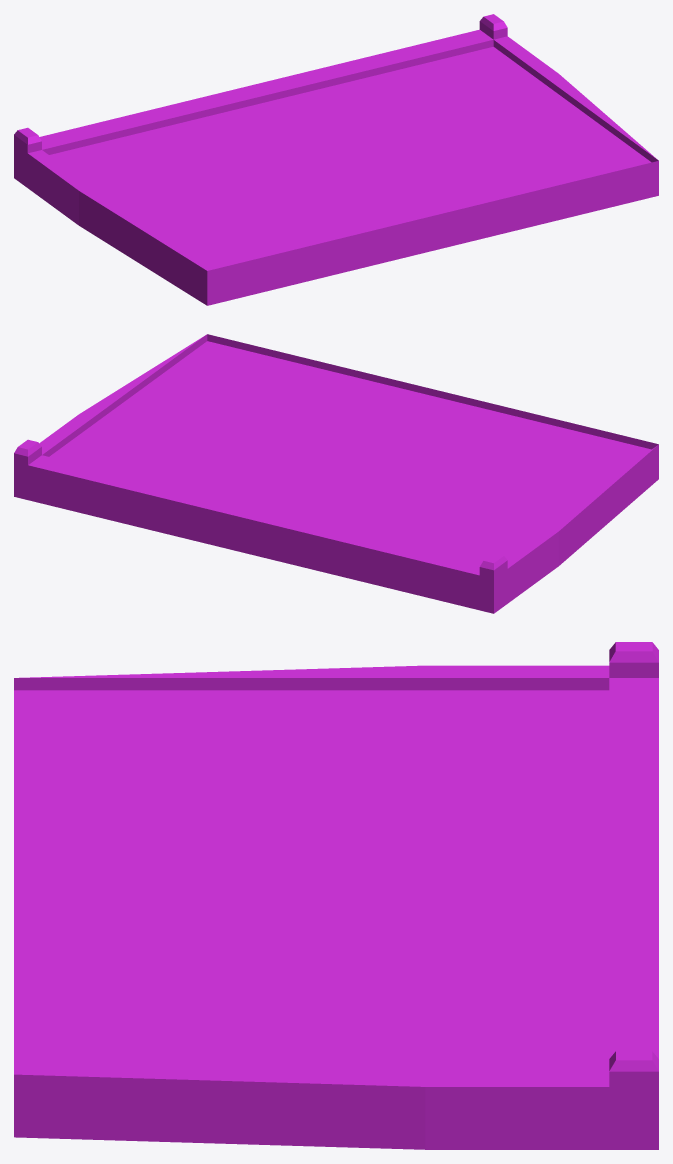
The model's file is LevelEnd.fbx.
The picture shows the model from 3 angles, top to bottom: view 1: azimuth 30°, elevation 25°; view 2: azimuth 150°, elevation 25°; view 3: azimuth 270°, elevation 25°; orthographic projection. The views are drawn at different scales.
Parts seen in each view (by area): view 1: up; view 2: up; view 3: up.
Boxes of the visible parts, <box> form: up: <box>14,14,658,305</box>; up: <box>14,334,658,613</box>; up: <box>14,642,658,1149</box>.
Size of the model in its own units: 9.24 by 0.8986 by 5.98.
